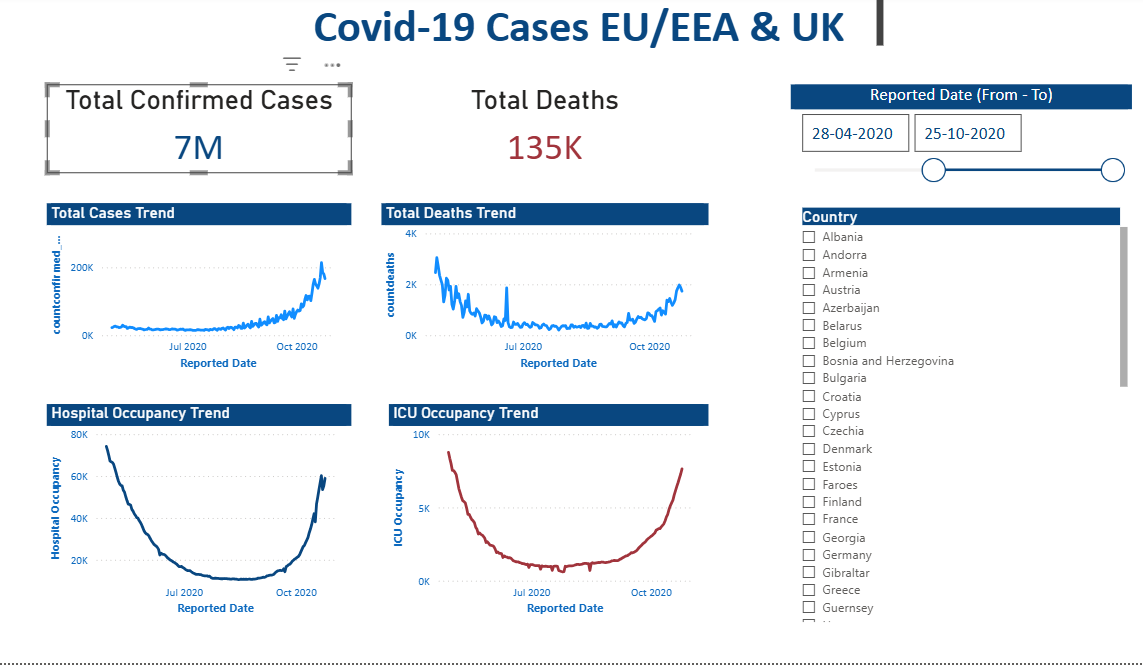

The dashboard page shown, as its layout file describes it:
{"tool":"powerbi","page":{"name":"Trends","canvas":[1280,720],"ordinal":0},"visuals":[{"type":"card","title":"Total Confirmed Cases","fields":{"Values":["Sum(covid_reporting cases_and_deaths.countconfirmed_cases)"]},"box":[94.4,96,328,96],"z":0},{"type":"card","title":"Total Deaths","fields":{"Values":["Sum(covid_reporting cases_and_deaths.countdeaths)"]},"box":[454.4,96,352,96],"z":1000},{"type":"textbox","box":[376,0,624,64],"z":2000},{"type":"lineChart","title":"Total Cases Trend","fields":{"Category":["covid_reporting cases_and_deaths.reported_date"],"Y":["Sum(covid_reporting cases_and_deaths.countconfirmed_cases)"]},"box":[94.4,224,328,184],"z":3000},{"type":"lineChart","title":"Total Deaths Trend","fields":{"Category":["covid_reporting cases_and_deaths.reported_date"],"Y":["Sum(covid_reporting cases_and_deaths.countdeaths)"]},"box":[454.4,224,352,184],"z":4000},{"type":"slicer","fields":{"Values":["covid_reporting cases_and_deaths.country"]},"box":[896,224,368,456],"z":5000},{"type":"lineChart","title":"Hospital Occupancy Trend","fields":{"Y":["Sum(covid_reporting hospital_admissions_daily.hospital_occupancy_count)"],"Category":["covid_reporting hospital_admissions_daily.reported_date"]},"box":[94.4,440,328,232],"z":6000},{"type":"lineChart","title":"ICU Occupancy Trend","fields":{"Y":["Sum(covid_reporting hospital_admissions_daily.icu_occupancy_count)"],"Category":["covid_reporting hospital_admissions_daily.reported_date"]},"box":[462.4,440,344,232],"z":7000},{"type":"slicer","title":"Reported Date (From - To)","fields":{"Values":["covid_reporting cases_and_deaths.reported_date"]},"box":[896,96,368,112],"z":8001}]}

Visuals, with their boxes on the page's 1280x720 design canvas (x1, y1, x2, y2). These are canvas units, not pixel positions in the 1143x667 screenshot, which may show the page scaled, cropped or inside an application window:
"Total Confirmed Cases" card: 94 96 422 192
"Total Deaths" card: 454 96 806 192
textbox: 376 0 1000 64
"Total Cases Trend" lineChart: 94 224 422 408
"Total Deaths Trend" lineChart: 454 224 806 408
slicer - covid_reporting cases_and_deaths.country: 896 224 1264 680
"Hospital Occupancy Trend" lineChart: 94 440 422 672
"ICU Occupancy Trend" lineChart: 462 440 806 672
"Reported Date (From - To)" slicer: 896 96 1264 208
